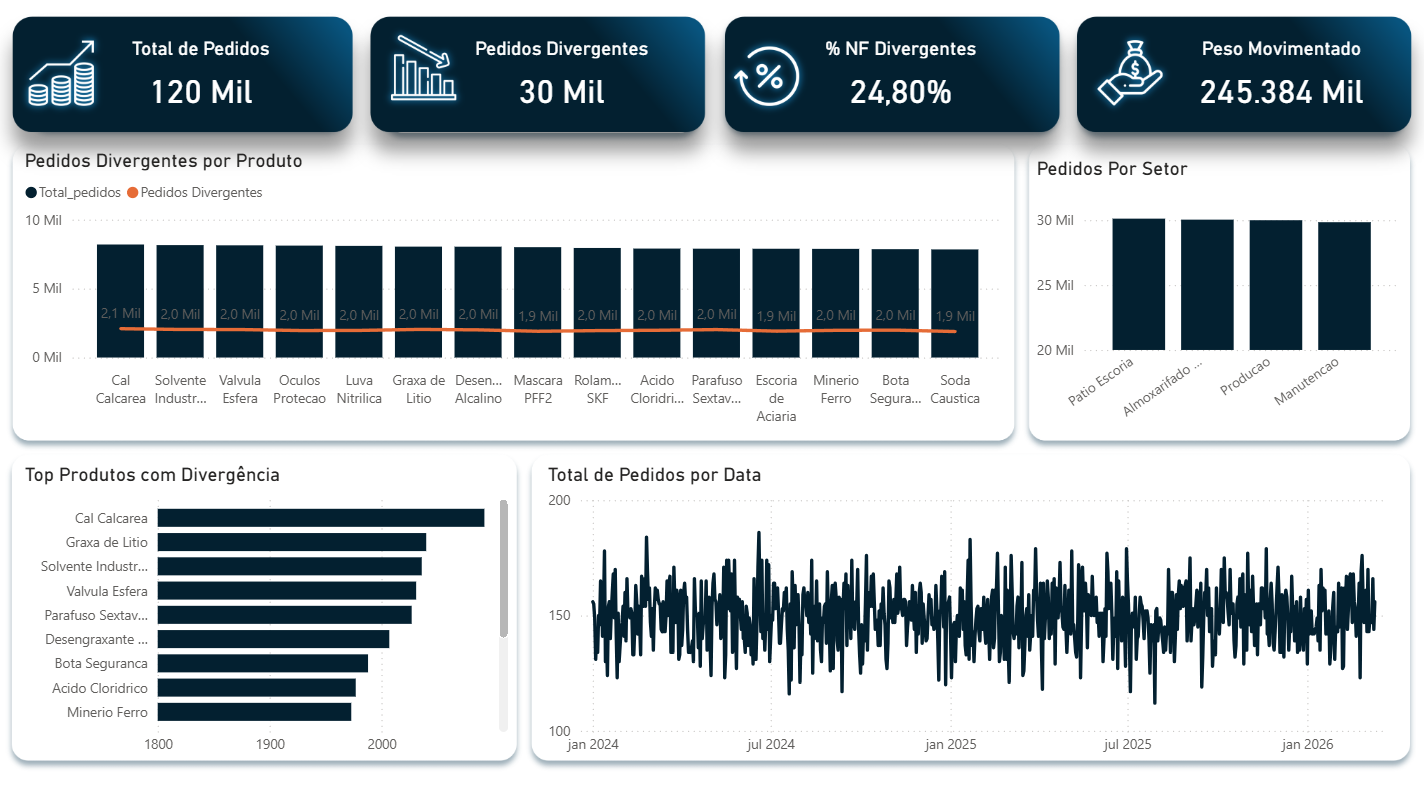

Layout of this report page (visuals, bound fields, positions):
{"tool":"powerbi","page":{"name":"Página 1","canvas":[1280,720],"ordinal":0},"visuals":[{"type":"card","title":"Total de Pedidos","fields":{"Values":["_medidas.Total_pedidos"]},"box":[88.5,43.8,196.5,73.9],"z":0},{"type":"card","title":"Pedidos Divergentes","fields":{"Values":["_medidas.Pedidos Divergentes"]},"box":[408.5,43.8,196.5,73.9],"z":1000},{"type":"card","title":"% NF Divergentes","fields":{"Values":["_medidas.% Divergencia NF"]},"box":[709.1,43.8,196.5,73.9],"z":2000},{"type":"card","title":"Peso Movimentado","fields":{"Values":["_medidas.Peso_movimentado"]},"box":[1034.9,43.8,196.5,73.9],"z":3000},{"type":"clusteredBarChart","fields":{"Category":["Dim_Produtos.Desc_Produto"],"Y":["_medidas.Pedidos Divergentes"]},"box":[25.3,421.2,438.7,267.5],"z":4000},{"type":"lineStackedColumnComboChart","title":"Pedidos Divergentes por Produto","fields":{"Category":["Dim_Produtos.Desc_Produto"],"Y":["_medidas.Total_pedidos"],"Y2":["_medidas.Pedidos Divergentes"]},"box":[25.3,143,877.3,251.9],"z":5000},{"type":"columnChart","title":"Pedidos Por Setor","fields":{"Category":["Dim_Setores.Setor_Destino"],"Y":["_medidas.Total_pedidos"]},"box":[923,149.8,332.6,245.1],"z":6000},{"type":"lineChart","fields":{"Category":["Fact_Pedidos.Data_Pedido"],"Y":["_medidas.Total_pedidos"]},"box":[489.2,421.2,766.4,267.5],"z":7000}]}

Visuals, with their boxes in screenshot pixels (x1, y1, x2, y2), scaled from the page's 1280x720 canvas onto the 1424x787 screenshot:
"Total de Pedidos" card: 98/48/317/129
"Pedidos Divergentes" card: 454/48/673/129
"% NF Divergentes" card: 789/48/1007/129
"Peso Movimentado" card: 1151/48/1370/129
clusteredBarChart - Dim_Produtos.Desc_Produto x _medidas.Pedidos Divergentes: 28/460/516/753
"Pedidos Divergentes por Produto" lineStackedColumnComboChart: 28/156/1004/432
"Pedidos Por Setor" columnChart: 1027/164/1397/432
lineChart - Fact_Pedidos.Data_Pedido x _medidas.Total_pedidos: 544/460/1397/753
